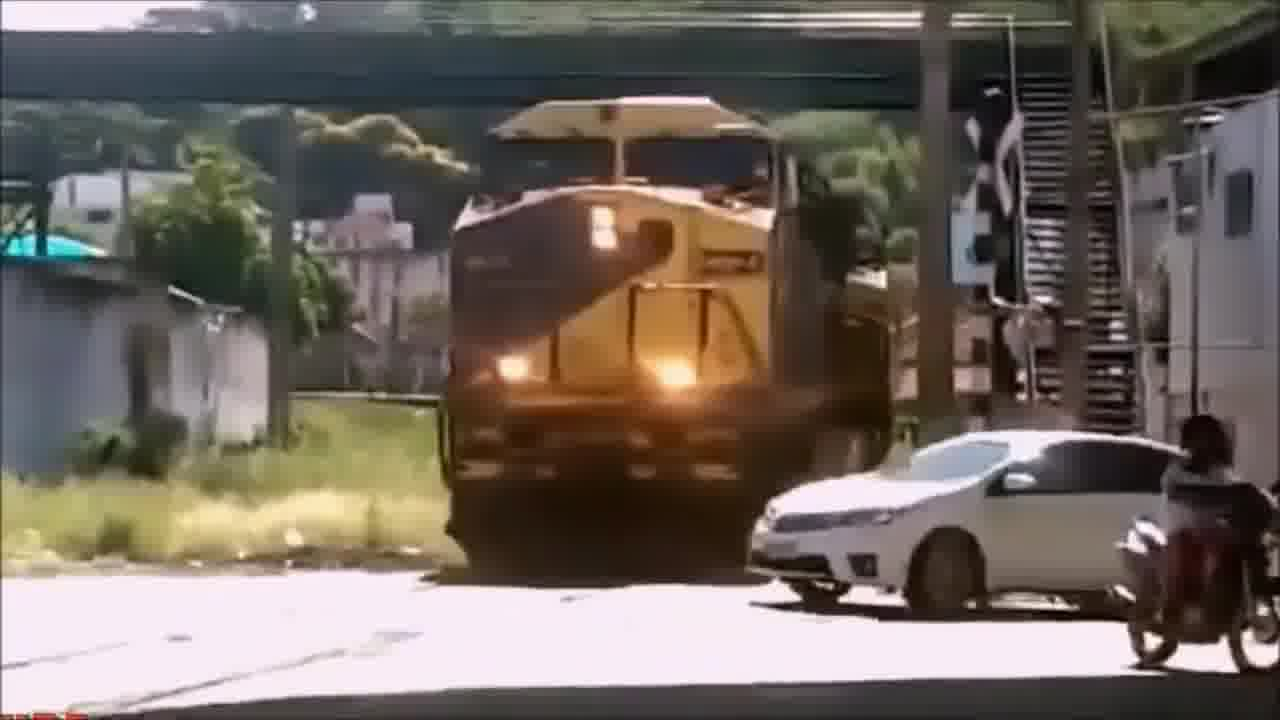crossing railway track: (724, 425, 1275, 619)
